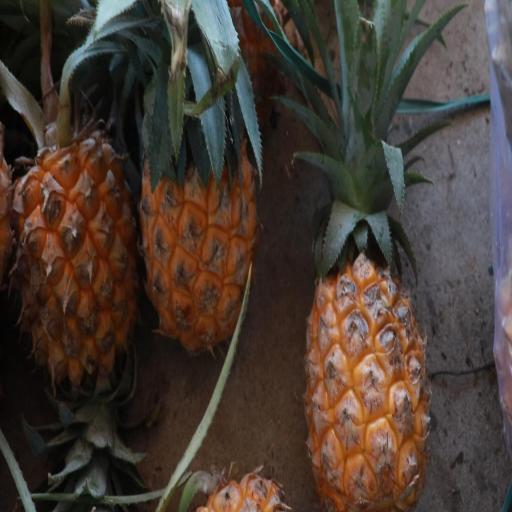Pineapple - v8 v1: (301, 139, 434, 512), (136, 38, 262, 363), (12, 83, 141, 393)
